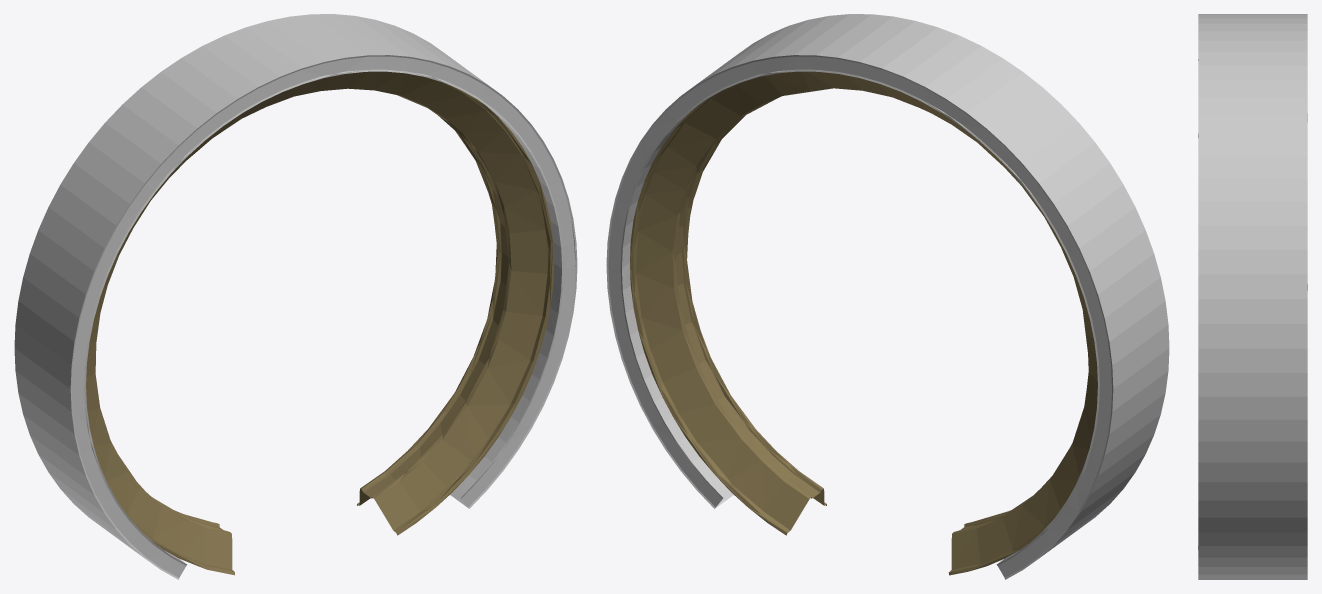
File: SunGate_Column_01.fbx
3 renders of one model, left to right at view 1: azimuth 30°, elevation 25°; view 2: azimuth 150°, elevation 25°; view 3: azimuth 270°, elevation 25°, orthographic. The views are drawn at different scales.
Parts seen in each view (by area): view 1: S_Sunforged_SunGate_Arch_01_Lod1.mo; view 2: S_Sunforged_SunGate_Arch_01_Lod1.mo; view 3: S_Sunforged_SunGate_Arch_01_Lod1.mo.
Part boxes in pixels (left/top/right/bottom): S_Sunforged_SunGate_Arch_01_Lod1.mo: left=14, top=14, right=577, bottom=579; S_Sunforged_SunGate_Arch_01_Lod1.mo: left=606, top=14, right=1169, bottom=579; S_Sunforged_SunGate_Arch_01_Lod1.mo: left=1198, top=14, right=1307, bottom=579.
Bounding box in the file's own units: 6161 × 5800 × 1185.
